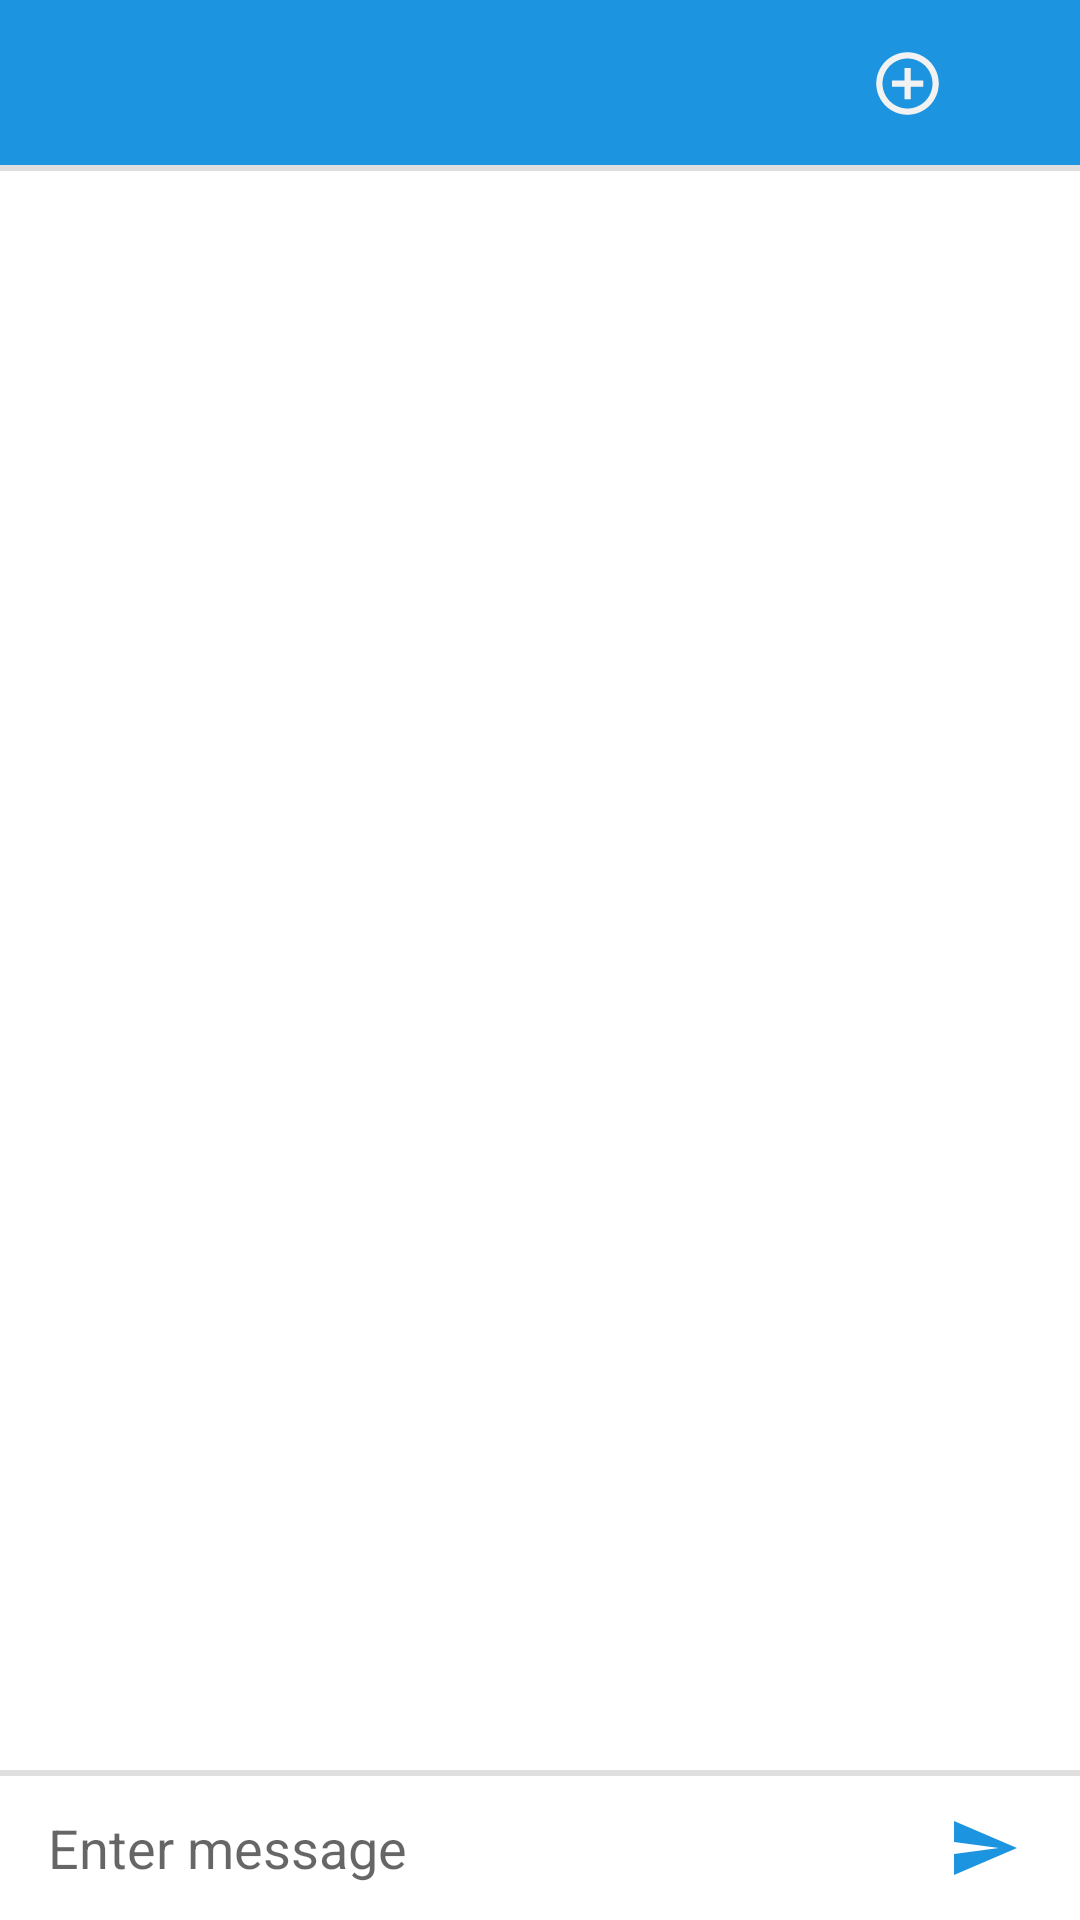

Icon bounding boxes for this 1080x1920 phone screenshot, format [x1, y1, x2, y2]:
addtask: [876, 52, 939, 115]
sendmes: [954, 1821, 1017, 1875]
